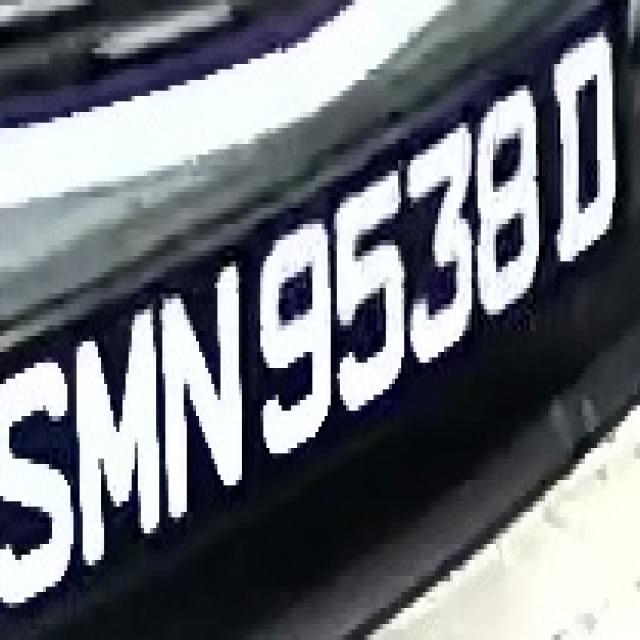3: (404, 117, 475, 379)
5: (325, 170, 410, 427)
8: (472, 69, 542, 320)
9: (260, 208, 340, 475)
D: (545, 38, 619, 262)
M: (65, 315, 172, 576)
N: (153, 261, 248, 523)
S: (12, 342, 77, 630)
